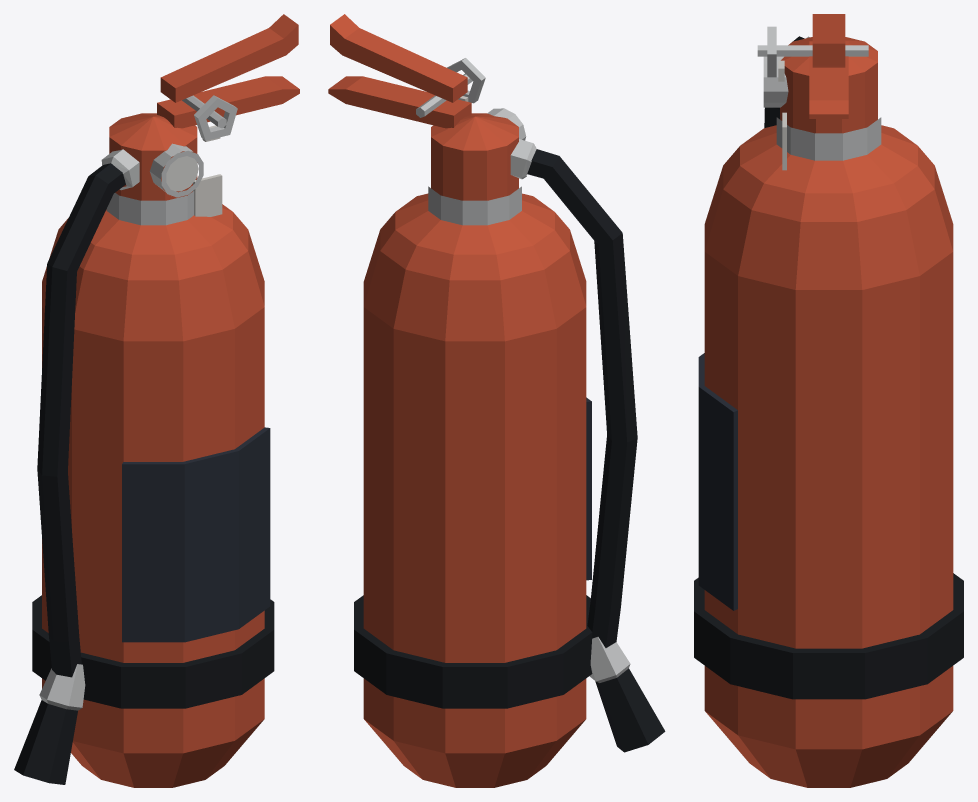
The model's file is extinguisher.glb.
The picture shows the model from 3 angles, left to right: view 1: azimuth 30°, elevation 25°; view 2: azimuth 150°, elevation 25°; view 3: azimuth 270°, elevation 25°; orthographic projection. The views are drawn at different scales.
Visible parts, largest first — view 1: fire-extinguisher, lever, pin; view 2: fire-extinguisher, lever, pin; view 3: fire-extinguisher, lever, pin.
Boxes of the visible parts, box(x1,y1,x2,y2) form: fire-extinguisher: box(14, 76, 299, 787); lever: box(160, 14, 298, 102); pin: box(182, 95, 237, 141); fire-extinguisher: box(328, 76, 665, 787); lever: box(330, 14, 467, 102); pin: box(416, 58, 485, 117); fire-extinguisher: box(694, 36, 963, 787); lever: box(812, 14, 845, 67); pin: box(757, 26, 868, 81).
Bounding box in the file's own units: 0.2423 × 0.5474 × 0.1704.
